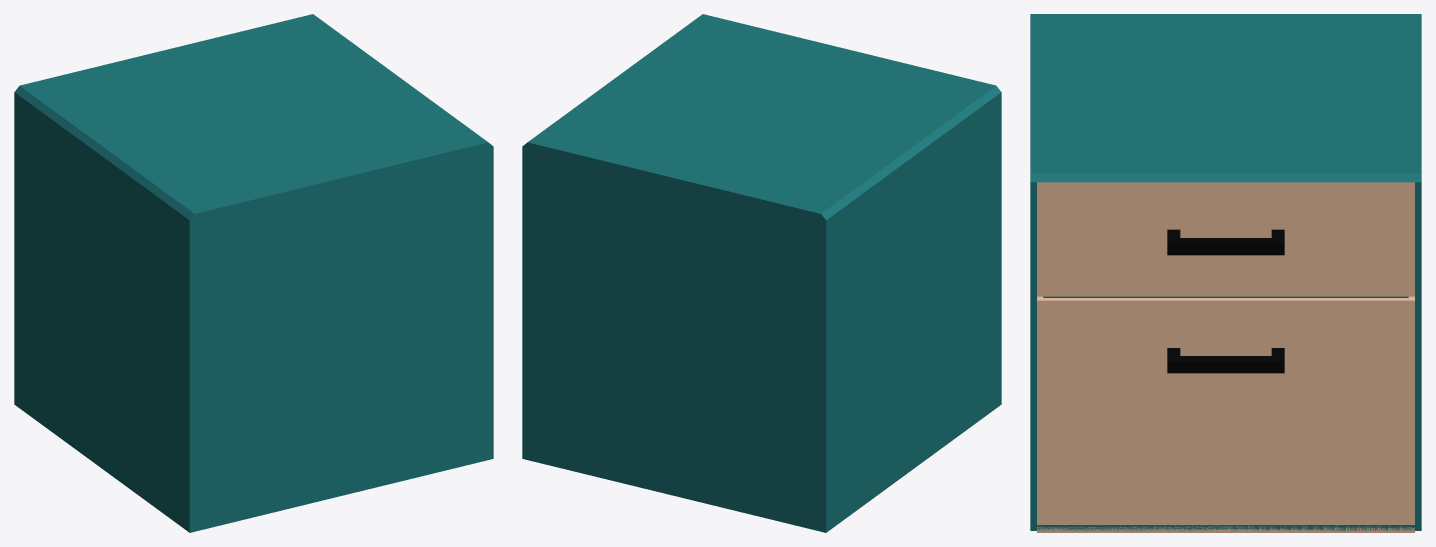
File: cassettiera posate.fbx
3 views of the same model, side by side, from view 1: azimuth 30°, elevation 25°; view 2: azimuth 150°, elevation 25°; view 3: azimuth 270°, elevation 25° (orthographic). The views are drawn at different scales.
Visible parts, largest first — view 1: Body1; view 2: Body1; view 3: cassetto (×2), Body1, maniglia (×2).
Boxes of the visible parts, x1,y1,x2,y2 form: Body1: (14, 14, 493, 532); Body1: (522, 14, 1001, 532); cassetto (×2): (1037, 182, 1414, 532); Body1: (1030, 14, 1421, 530); maniglia (×2): (1167, 229, 1284, 373).
Bounding box in the file's own units: 78 × 72 × 72.4.
